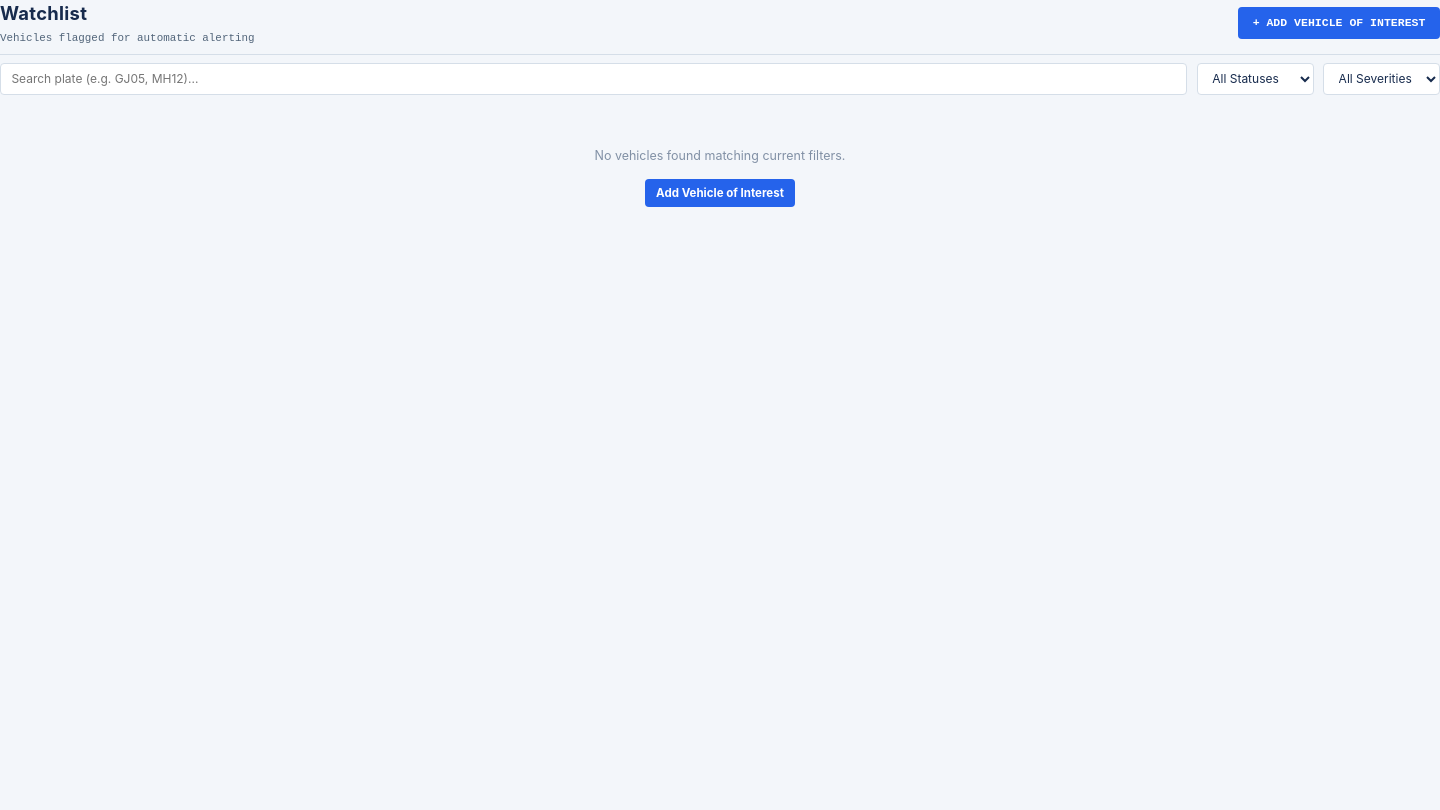
Test case: WatchlistManager Component Tests › 7: Displays 422 validation error message from backend without crash
Check: the text "No vehicles found matching current filters." is shown, box [595,148,846,163]
Click the button "+ ADD VEHICLE OF INTEREST": (1339, 23) [1238,7,1439,39]
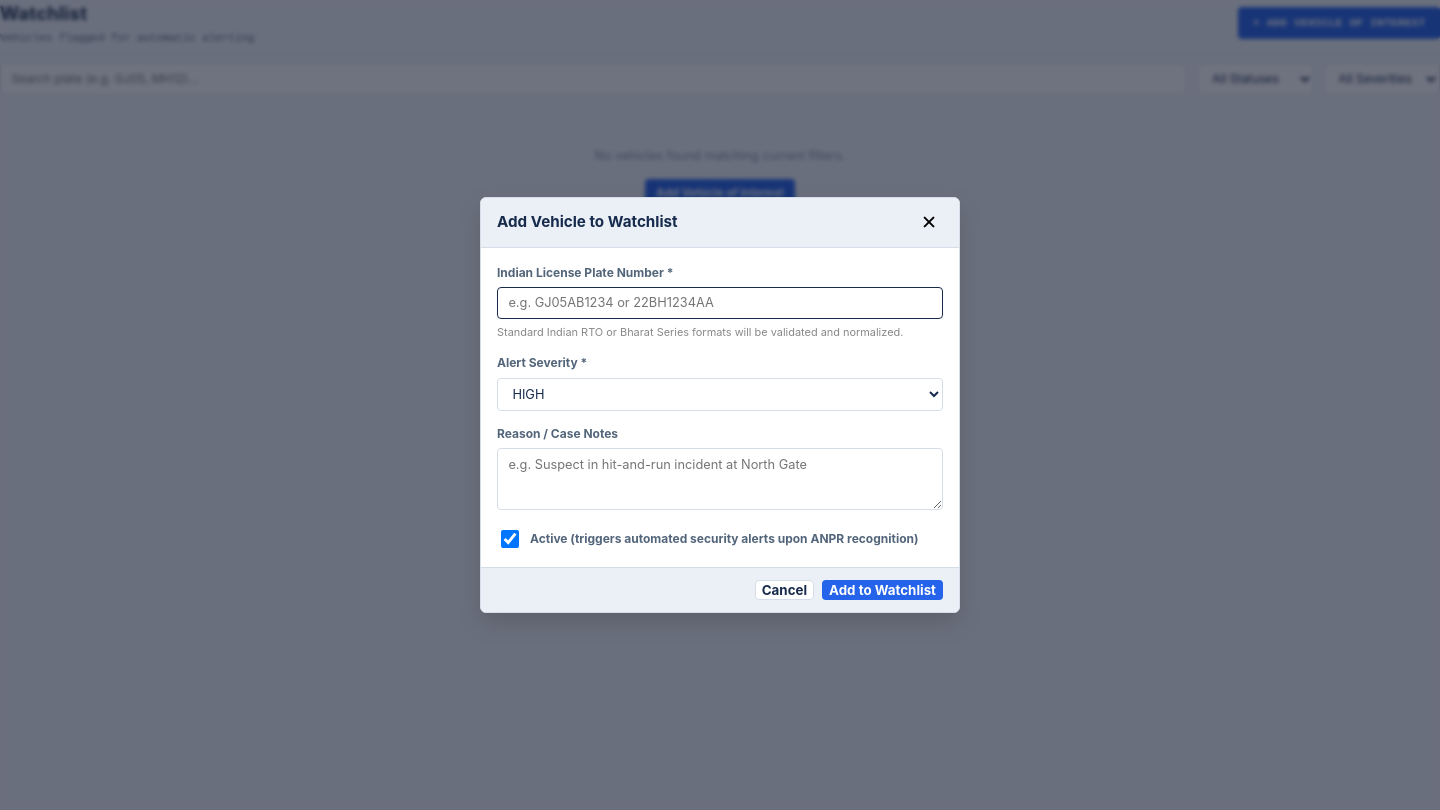
In the field labelled "Indian License Plate Number *": (720, 303) [497,287,943,319], type "INVALID-PLATE"
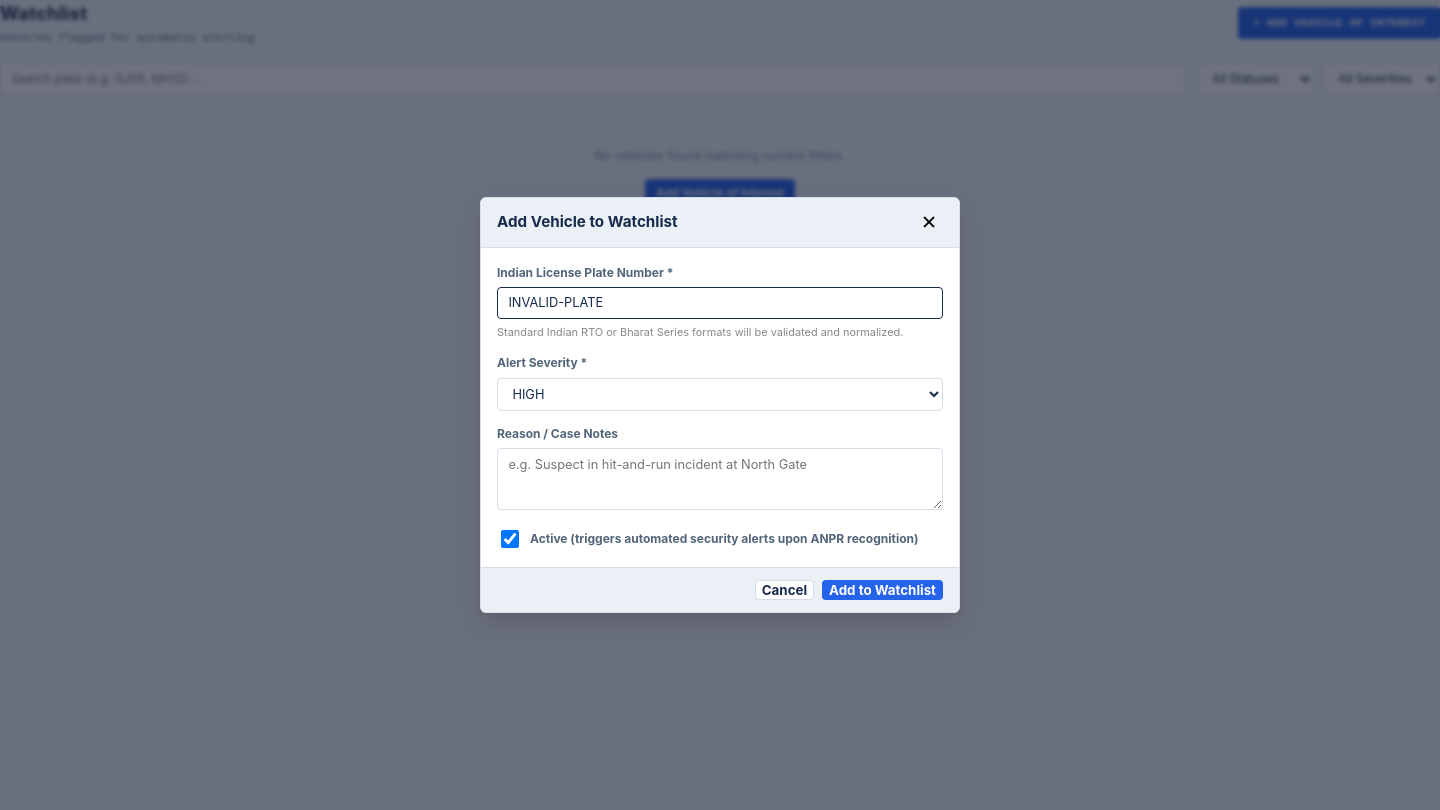
Click the button "Add to Watchlist": (882, 590) [822,580,943,600]
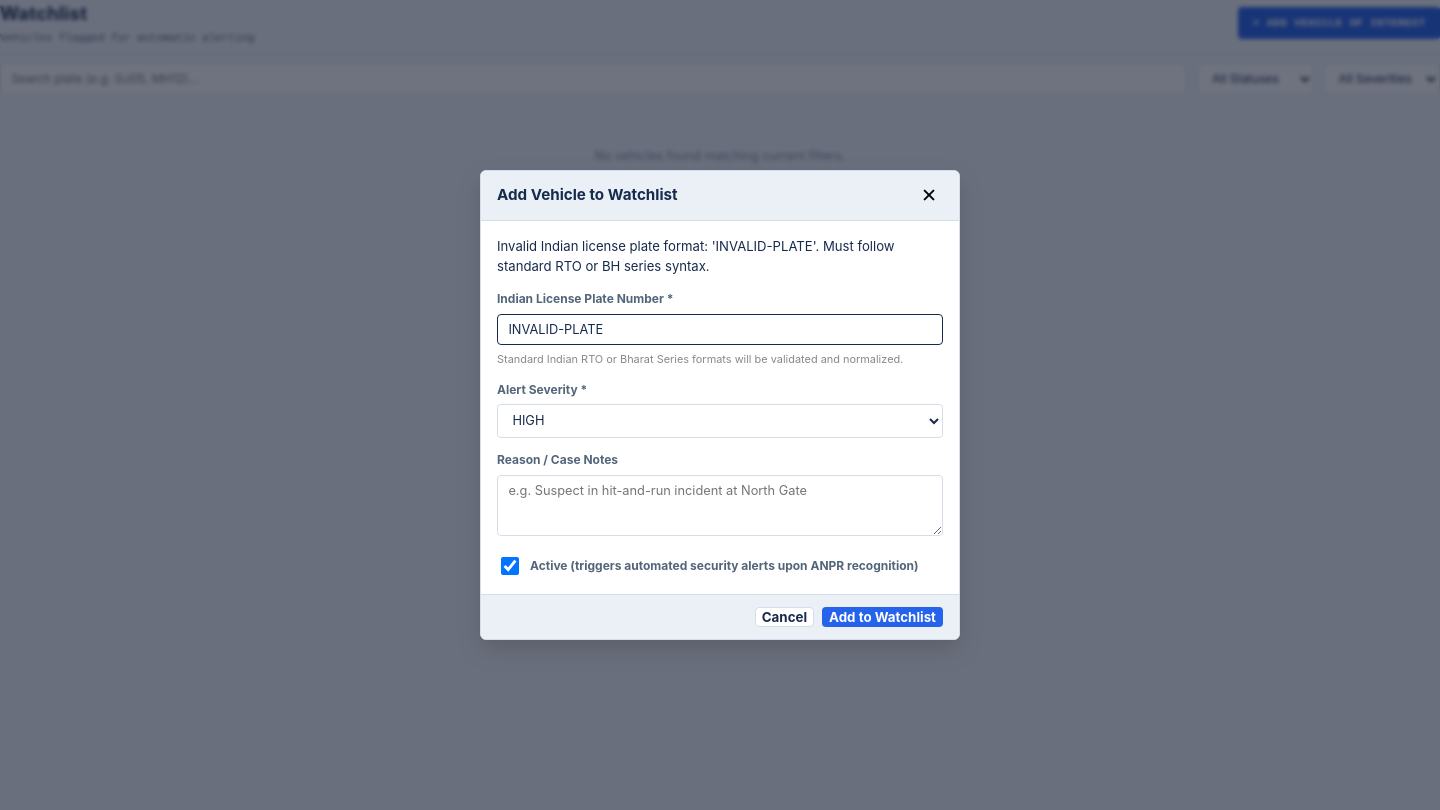
Check: the text "Invalid Indian license plate format" is shown, box [497,238,894,274]
